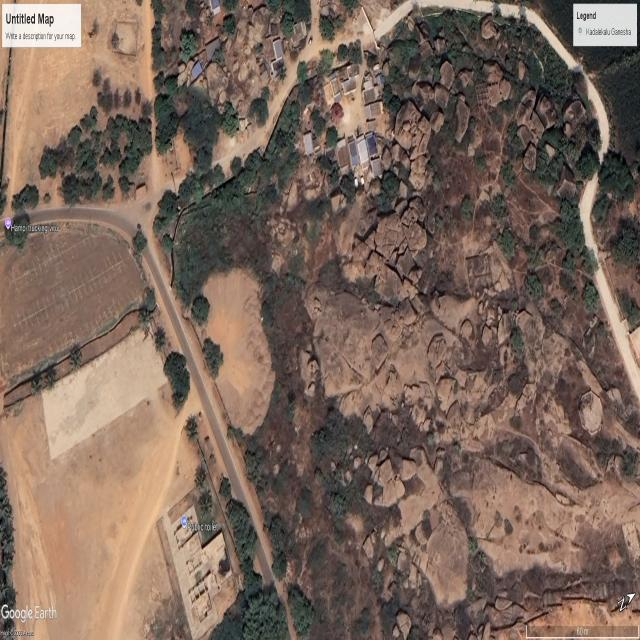artifacts: (297, 3, 381, 190), (175, 510, 227, 628), (258, 4, 308, 86), (184, 2, 227, 85)
ruins: (460, 286, 636, 493), (436, 434, 636, 608), (1, 3, 156, 215), (1, 222, 152, 400), (425, 299, 536, 516), (332, 265, 438, 421), (348, 486, 442, 632), (194, 263, 274, 430), (511, 72, 595, 195), (412, 133, 492, 252), (355, 191, 433, 291), (400, 58, 464, 156), (361, 403, 427, 498), (480, 24, 543, 122), (509, 163, 562, 245), (348, 2, 395, 46), (154, 1, 187, 63), (330, 342, 366, 387), (482, 59, 506, 104), (395, 98, 421, 136), (439, 59, 455, 88), (480, 14, 497, 40), (522, 143, 536, 171)
vegetation: (190, 431, 303, 637), (165, 150, 282, 302)
